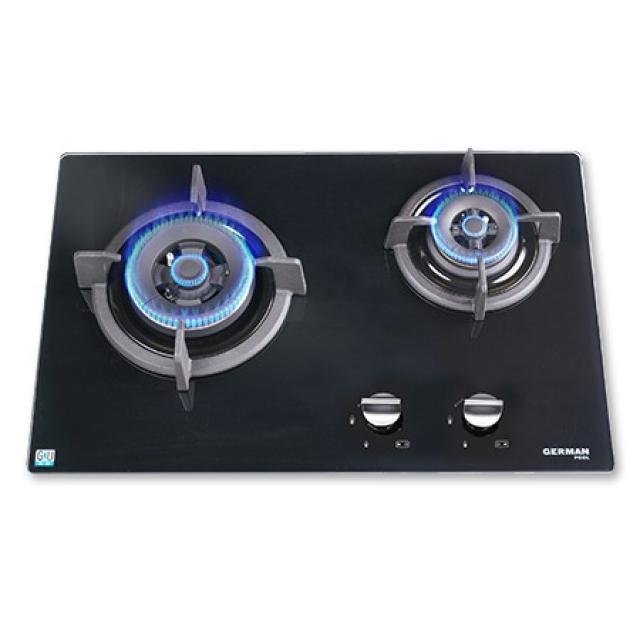Flame: (115, 185, 283, 346), (444, 178, 521, 276)
